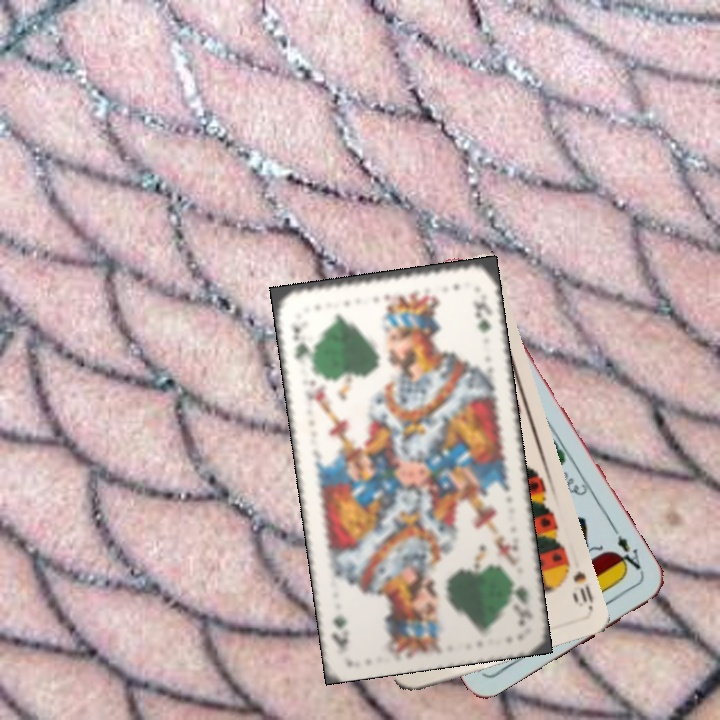EA: (609, 524, 644, 576)
GK: (506, 572, 531, 629), (288, 321, 315, 368)
S10: (558, 555, 596, 610)
